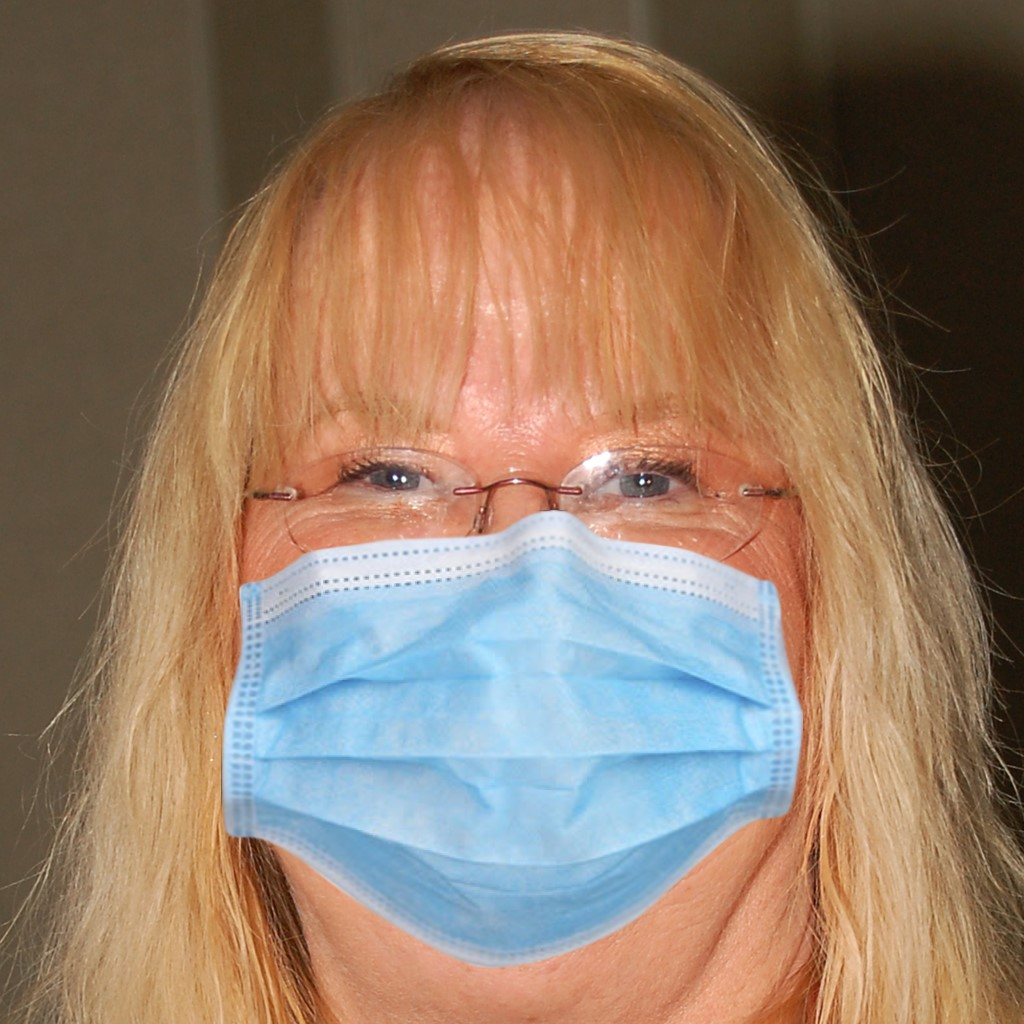con_mascara: (220, 100, 848, 923)
